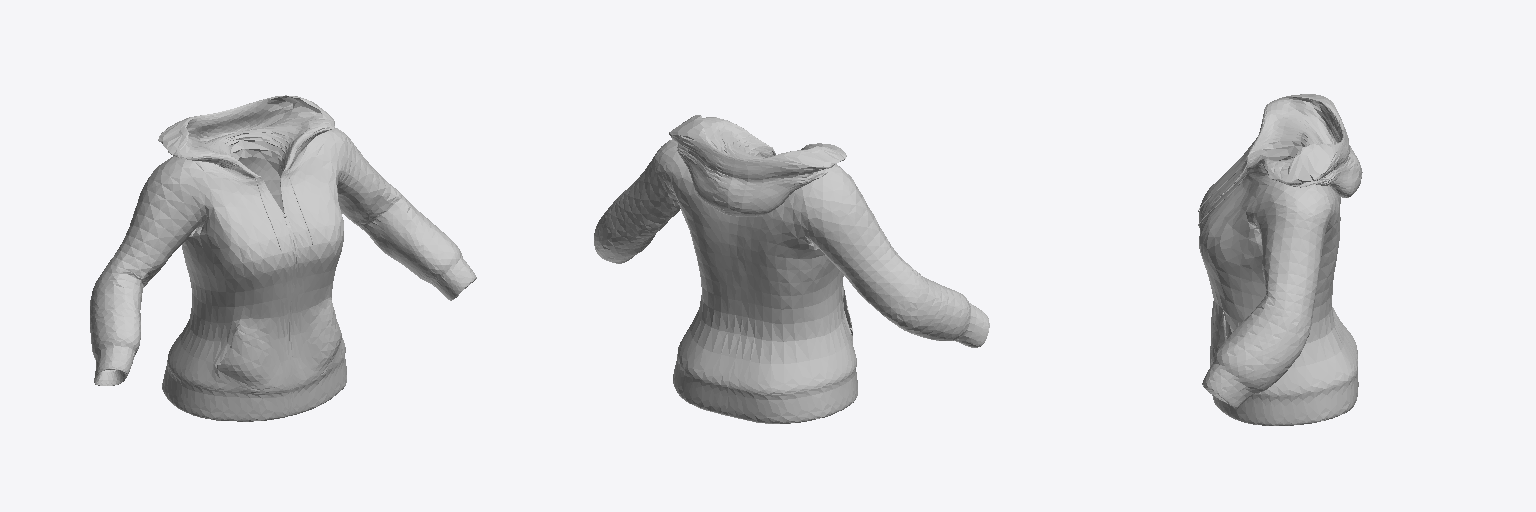
File: ladieshoodiedown1.obj
3 views of the same model, side by side, from view 1: azimuth 30°, elevation 25°; view 2: azimuth 150°, elevation 25°; view 3: azimuth 270°, elevation 25° (orthographic).
Size of the model in its own units: 9.15 by 6.25 by 3.43.